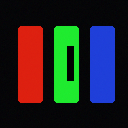4 line_v: (67, 46, 73, 80)
